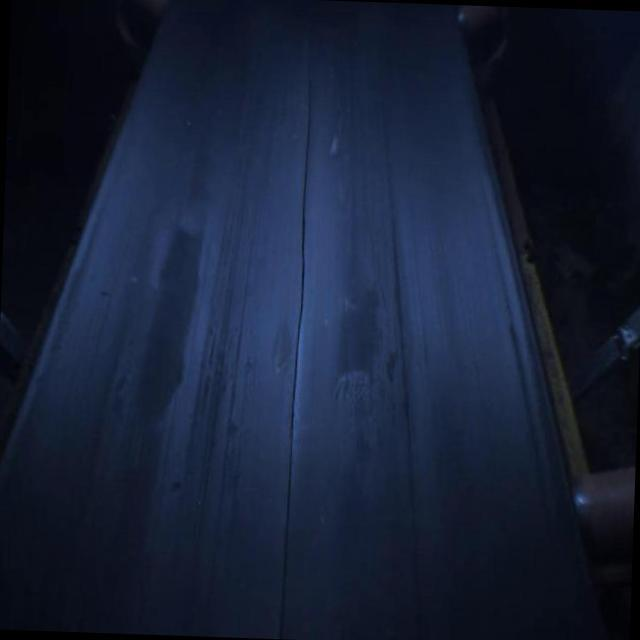Tear: (271, 36, 325, 640)
